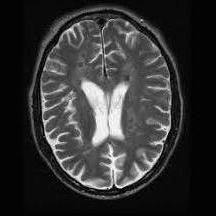Normal_Brain: (18, 1, 216, 212)
